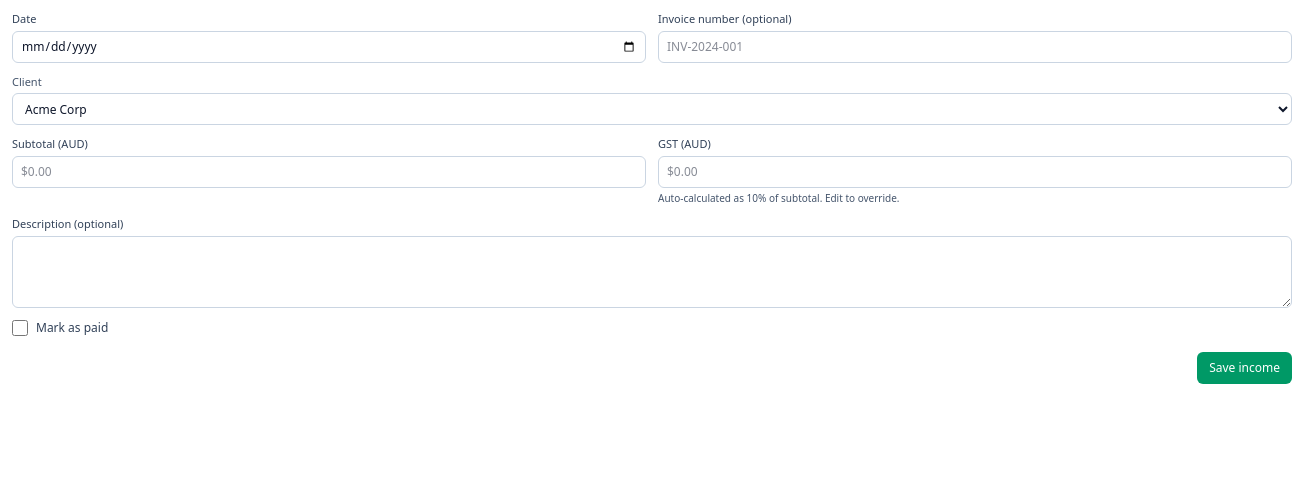
Test: IncomeForm › blocks submitting a newly-paid income without a receipt date
This screenshot has width=1304, height=500.
Type "2025-08-15" into the date field labelled "Date".
click(329, 47); type("2025-08-15")  # box [12,31,646,63]
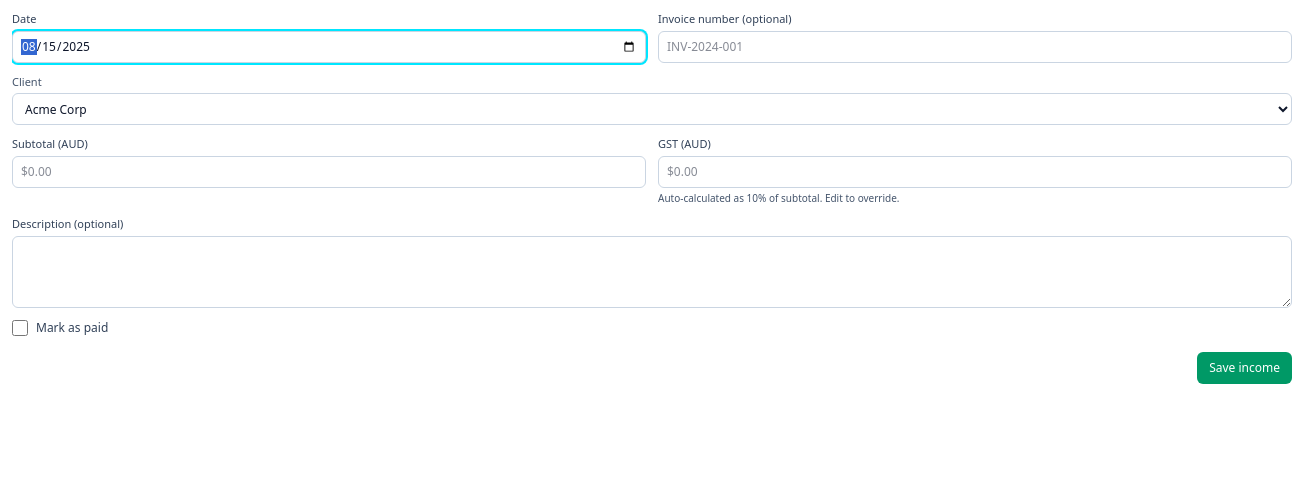
Type "5000" into the field labelled "Subtotal (AUD)".
click(329, 172); type("5000")  # box [12,156,646,188]
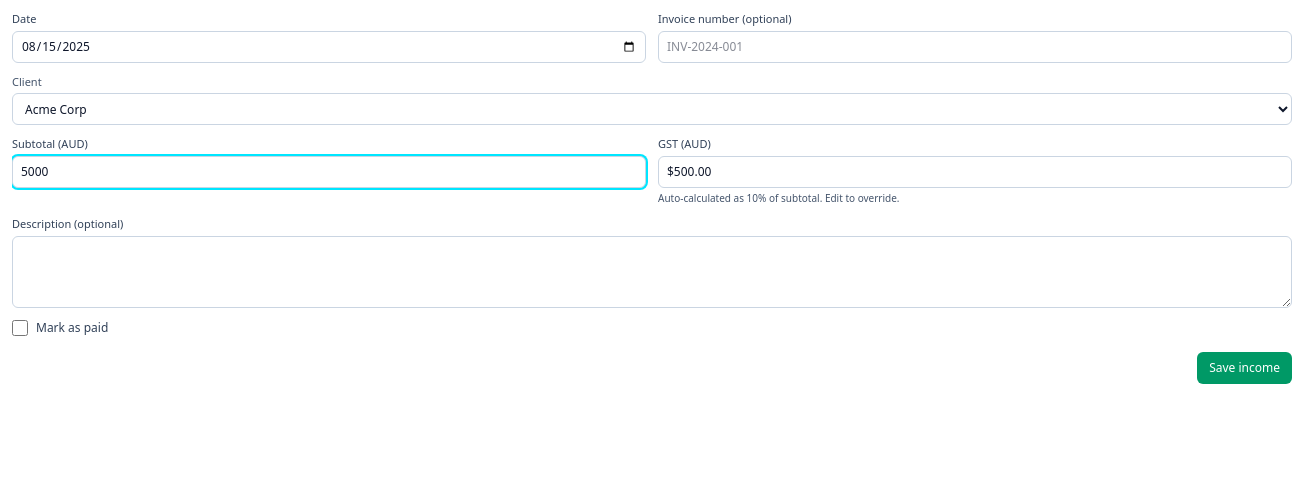
Replace the text in the field labelled "GST (AUD)" with "500" at (975, 172), box [658,156,1292,188]
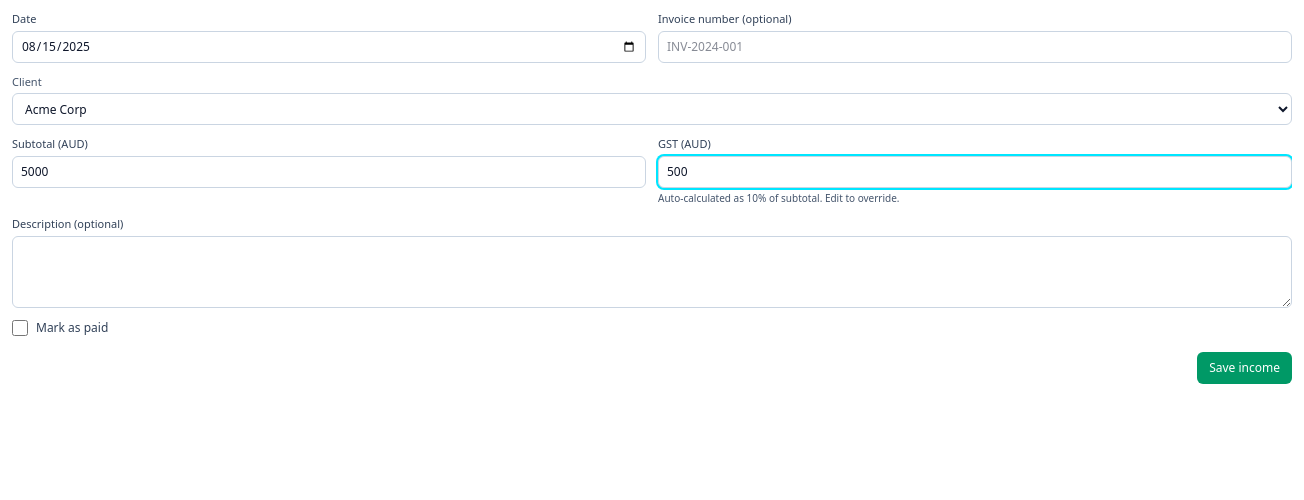
Click the checkbox labelled "Mark as paid".
click(20, 328)  # box [12,320,28,336]
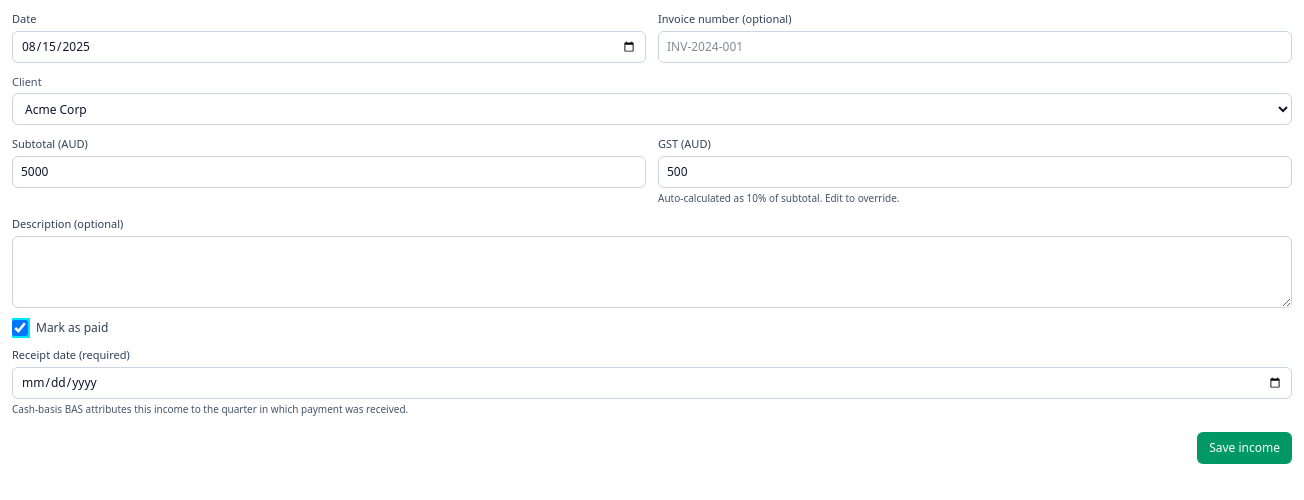
Click the button "Save income".
click(1245, 448)  # box [1197,432,1292,464]
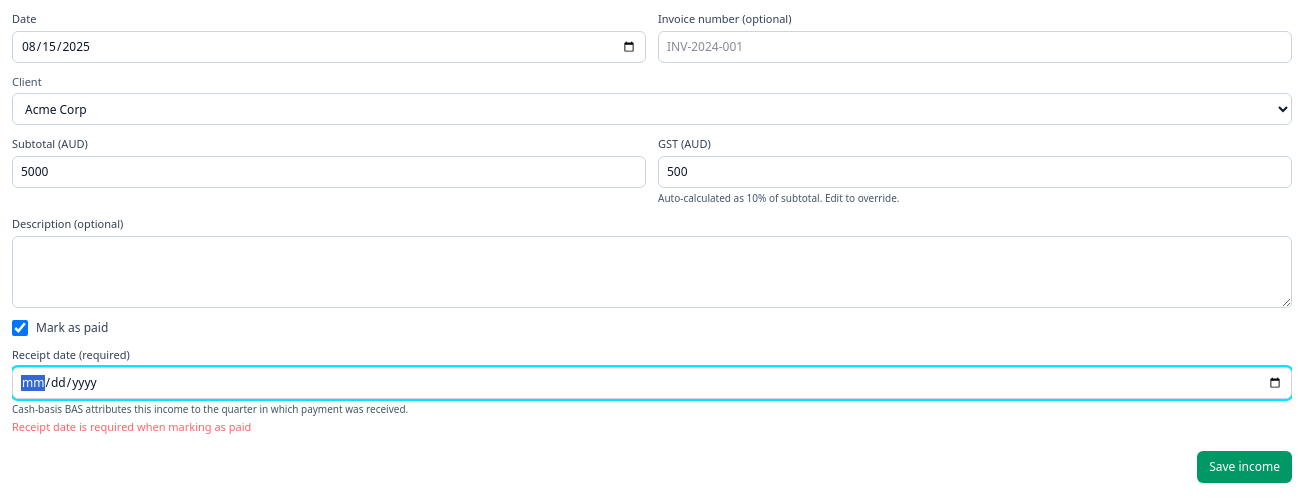
Now the text "Receipt date is required when marking as paid" is shown, box [12,419,251,434]
